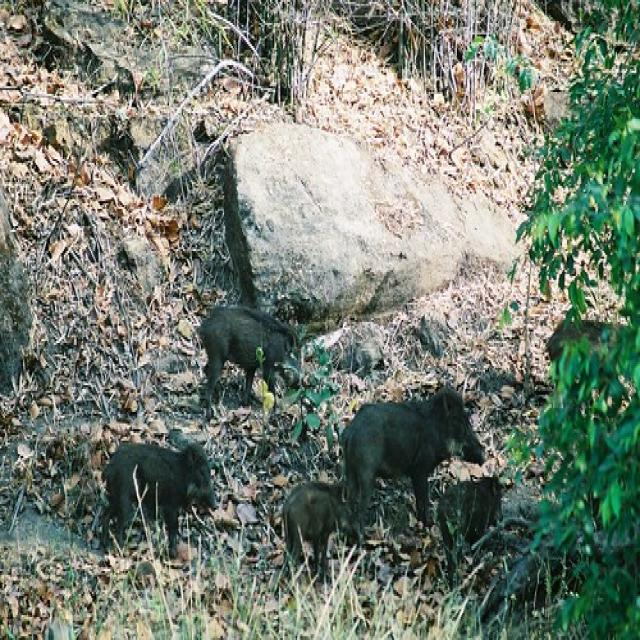boar: (182, 290, 314, 428)
